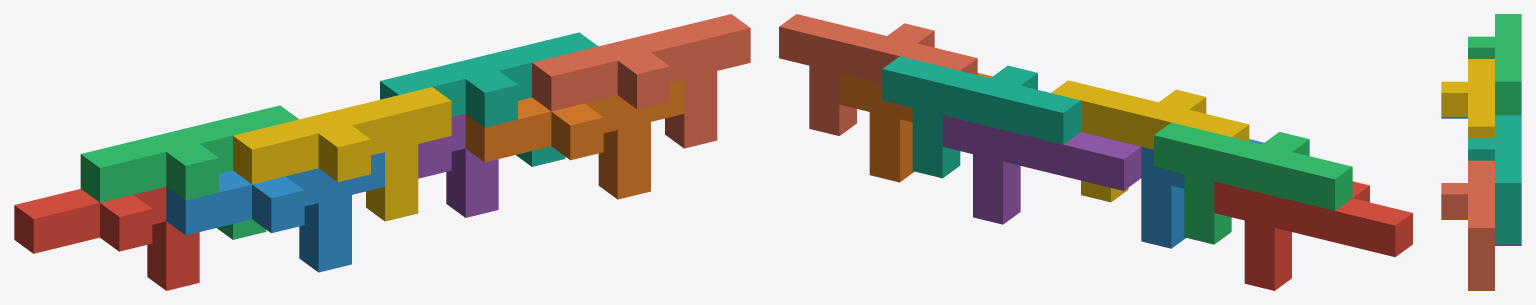
File: tiling.obj
3 views of the same model, side by side, from view 1: azimuth 30°, elevation 25°; view 2: azimuth 150°, elevation 25°; view 3: azimuth 270°, elevation 25° (orthographic). The views are drawn at different scales.
Parts seen in each view (by area): view 1: copy_1_domain_4, copy_1_domain_8, copy_1_domain_6, copy_1_domain_2, copy_1_domain_3, copy_1_domain_1, copy_1_domain_7, copy_1_domain_5; view 2: copy_1_domain_7, copy_1_domain_3, copy_1_domain_1, copy_1_domain_5, copy_1_domain_8, copy_1_domain_4, copy_1_domain_6, copy_1_domain_2; view 3: copy_1_domain_8, copy_1_domain_7, copy_1_domain_3, copy_1_domain_4, copy_1_domain_6.
Part boxes in pixels (x1,y1,x2,y2): copy_1_domain_4: [233, 87, 451, 221]; copy_1_domain_8: [532, 14, 750, 148]; copy_1_domain_6: [465, 79, 684, 199]; copy_1_domain_2: [166, 152, 384, 272]; copy_1_domain_3: [80, 105, 298, 239]; copy_1_domain_1: [14, 187, 199, 290]; copy_1_domain_7: [380, 32, 598, 166]; copy_1_domain_5: [418, 113, 498, 217]; copy_1_domain_7: [882, 56, 1080, 178]; copy_1_domain_3: [1154, 122, 1352, 244]; copy_1_domain_1: [1214, 181, 1412, 290]; copy_1_domain_5: [942, 115, 1141, 224]; copy_1_domain_8: [779, 14, 977, 135]; copy_1_domain_4: [1051, 80, 1249, 202]; copy_1_domain_6: [839, 73, 992, 182]; copy_1_domain_2: [1141, 139, 1263, 248]; copy_1_domain_8: [1441, 160, 1494, 289]; copy_1_domain_7: [1468, 115, 1521, 244]; copy_1_domain_3: [1468, 14, 1521, 115]; copy_1_domain_4: [1441, 59, 1494, 137]; copy_1_domain_6: [1441, 218, 1494, 290].
Size of the model in its own units: 21 by 4 by 3.
